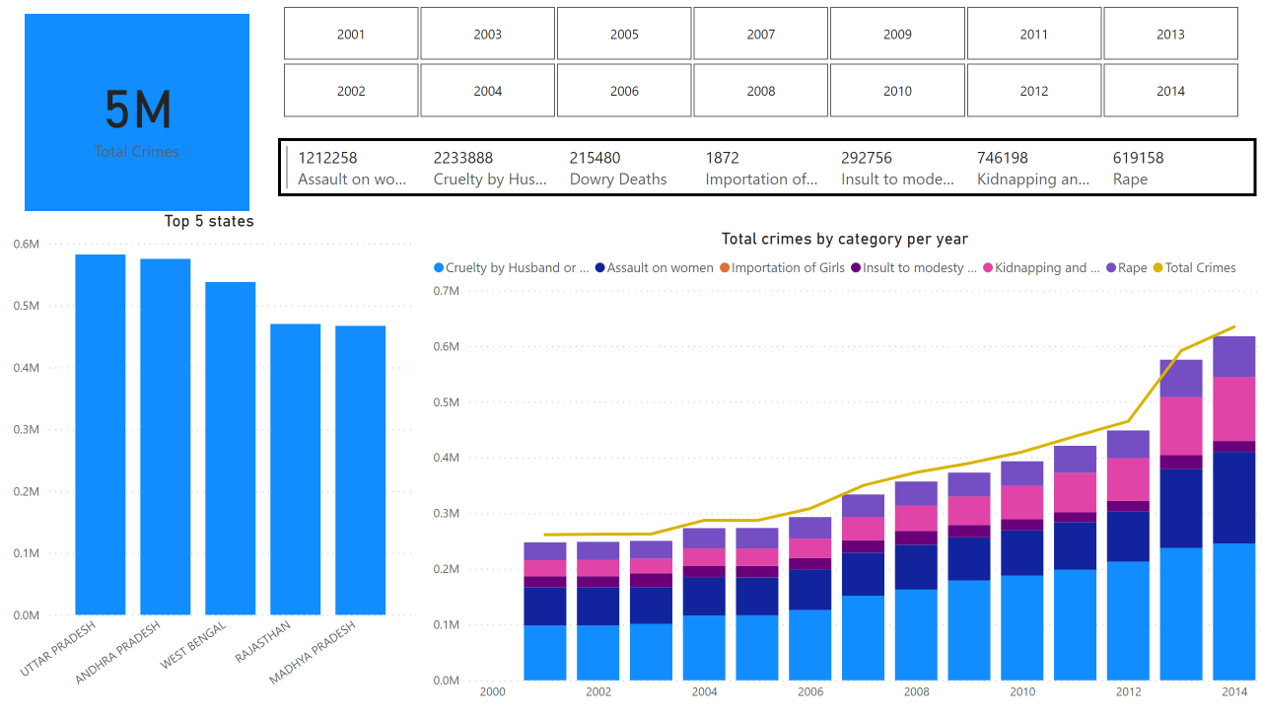

This screenshot's page, from the dashboard's own definition file:
{"tool":"powerbi","page":{"name":"Total Crimes","canvas":[1280,720],"ordinal":0},"visuals":[{"type":"card","fields":{"Values":["BaseMeasure.Total Crimes"]},"box":[24.7,13.7,228,200.5],"z":0},{"type":"slicer","fields":{"Values":["crime crimes_against_women.Year"]},"box":[261.7,0,1017.9,125.4],"z":1000},{"type":"lineStackedColumnComboChart","title":"Total crimes by category per year","fields":{"Y":["BaseMeasure.Cruelty by Husband or Relatives","BaseMeasure.Assault on women","BaseMeasure.Importation of Girls","BaseMeasure.Insult to modesty of Women","BaseMeasure.Kidnapping and Abduction","BaseMeasure.Rape"],"Category":["crime crimes_against_women.Year"],"Y2":["BaseMeasure.Total Crimes"]},"box":[434,232.1,846,487.6],"z":2000},{"type":"multiRowCard","fields":{"Values":["BaseMeasure.Assault on women","BaseMeasure.Cruelty by Husband or Relatives","BaseMeasure.Dowry Deaths","BaseMeasure.Importation of Girls","BaseMeasure.Insult to modesty of Women","BaseMeasure.Kidnapping and Abduction","BaseMeasure.Rape"]},"box":[277.4,134.6,1002.6,97.5],"z":3000},{"type":"clusteredColumnChart","title":"Top 5 states ","fields":{"Category":["crime crimes_against_women.STATE/UT"],"Y":["BaseMeasure.Total Crimes"]},"box":[0,214.2,424.4,505.4],"z":4000}]}

Visuals, with their boxes in screenshot pixels (x1, y1, x2, y2), scaled from the page's 1280x720 canvas onto the 1262x720 screenshot:
card - BaseMeasure.Total Crimes: (left=24, top=14, right=249, bottom=214)
slicer - crime crimes_against_women.Year: (left=258, top=0, right=1261, bottom=125)
"Total crimes by category per year" lineStackedColumnComboChart: (left=428, top=232, right=1261, bottom=719)
multiRowCard - BaseMeasure.Assault on women x BaseMeasure.Cruelty by Husband or Relatives: (left=273, top=135, right=1261, bottom=232)
"Top 5 states " clusteredColumnChart: (left=0, top=214, right=418, bottom=719)
